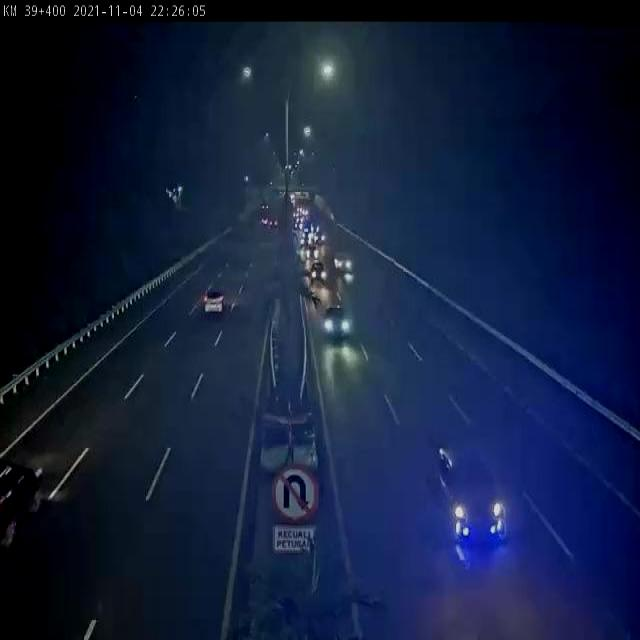Car: (419, 404, 526, 570), (0, 437, 62, 551), (196, 264, 229, 320), (322, 303, 350, 344), (308, 255, 332, 290), (333, 249, 357, 279), (304, 241, 322, 265)
